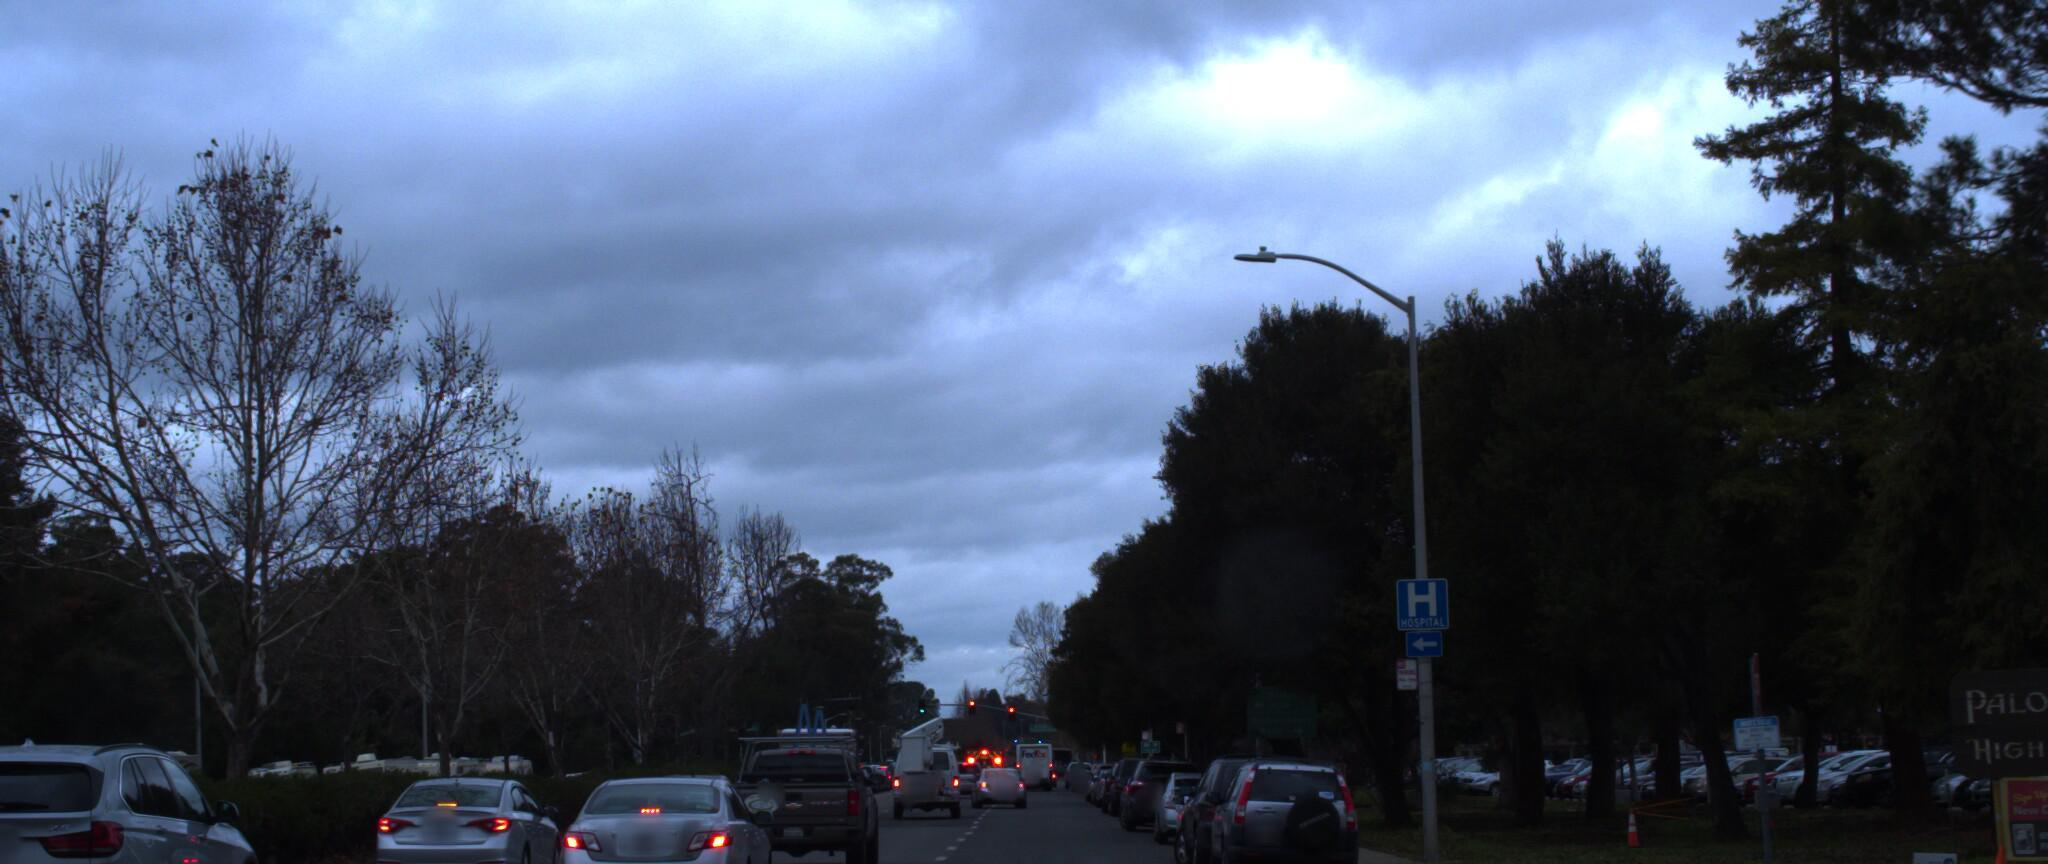car: (0, 731, 293, 864), (537, 757, 790, 864), (724, 718, 889, 864), (1883, 719, 2048, 864), (367, 767, 586, 864), (1196, 737, 1361, 864), (1174, 730, 1323, 859)
